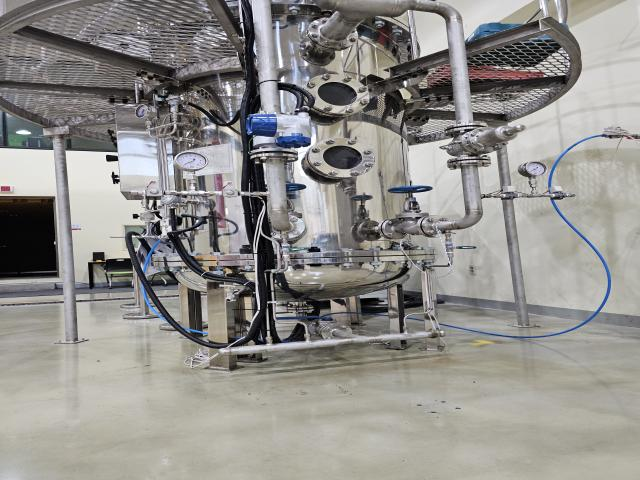Flange: (303, 74, 370, 118), (308, 139, 375, 179)
Flush Ring: (306, 17, 362, 51), (266, 215, 308, 241), (245, 149, 302, 163), (417, 214, 450, 238), (318, 323, 357, 342), (442, 123, 490, 137), (381, 217, 409, 239), (445, 158, 491, 170)
GasRegulator: (135, 92, 204, 144)
Nuts: (498, 190, 521, 202), (144, 188, 165, 198), (222, 189, 242, 199), (550, 191, 570, 201)
Piston Valve: (382, 185, 437, 214), (288, 182, 310, 213)
Pressure Gage: (172, 150, 210, 190), (515, 160, 552, 194)
